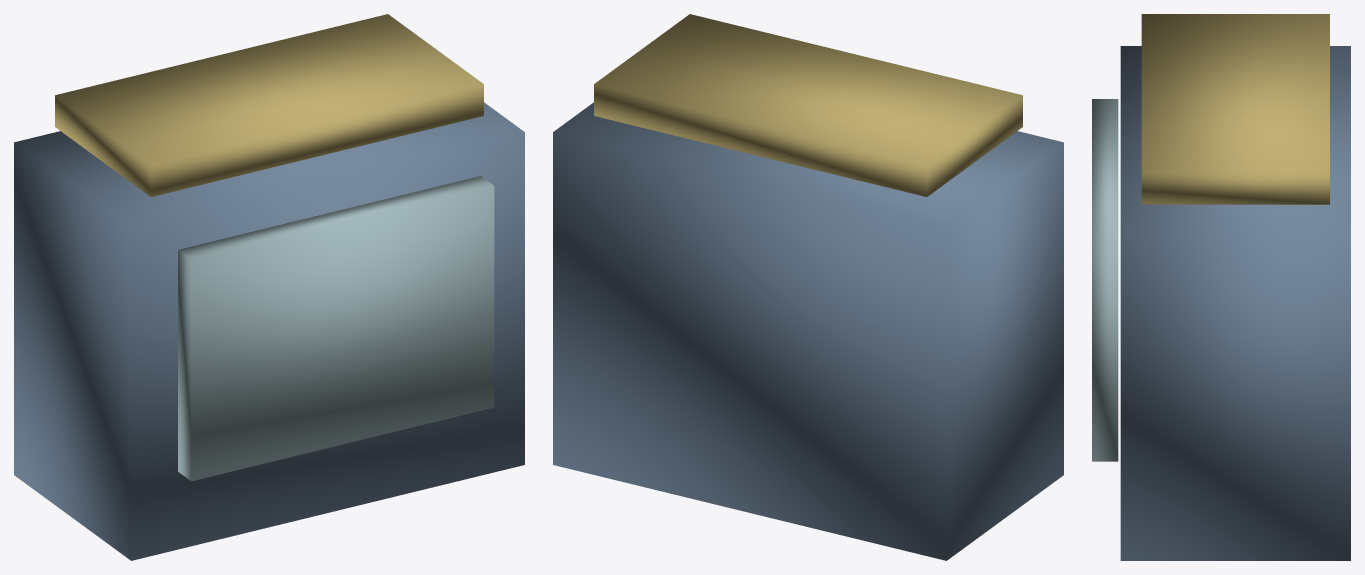
The model's file is lottery_counter_display__deep.glb.
3 renders of one model, left to right at view 1: azimuth 30°, elevation 25°; view 2: azimuth 150°, elevation 25°; view 3: azimuth 270°, elevation 25°, orthographic.
Parts seen in each view (by area): view 1: world; view 2: world; view 3: world.
Boxes of the visible parts, bbox=[...] form: world: bbox=[14, 14, 524, 560]; world: bbox=[553, 14, 1063, 560]; world: bbox=[1092, 14, 1350, 560].
Size of the model in its own units: 0.52 by 0.48 by 0.302.
